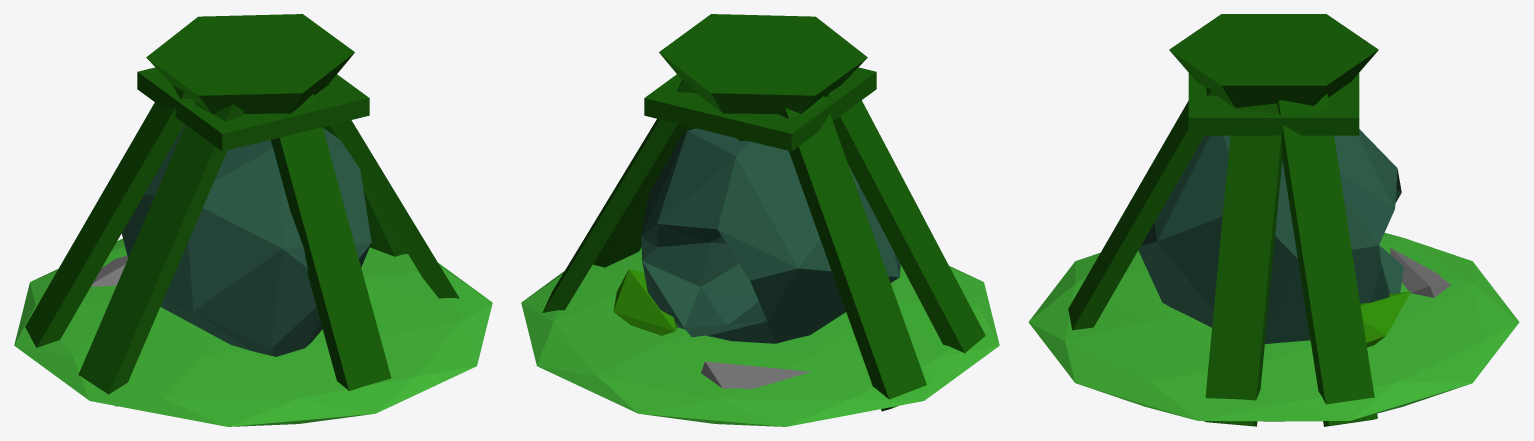
Rendered from 温帯の巣.fbx.
The picture shows the model from 3 angles, left to right: view 1: azimuth 30°, elevation 25°; view 2: azimuth 150°, elevation 25°; view 3: azimuth 270°, elevation 25°; orthographic projection.
Parts seen in each view (by area): view 1: ICO球.001, ICO球.002, 立方体.006, 立方体.002, 立方体.003, 立方体.004, 立方体.007, 立方体.001, 立方体.005, ICO球.005; view 2: ICO球.001, ICO球.002, 立方体.006, 立方体.004, 立方体.003, 立方体.007, 立方体.005, 立方体.001, ICO球.003, ICO球.005; view 3: ICO球.001, ICO球.002, 立方体.005, 立方体.001, 立方体.006, 立方体.002, 立方体.007, ICO球.003, ICO球.005.
Boxes of the visible parts, x1=… form: ICO球.001: x1=14, y1=238, x2=492, y2=426; ICO球.002: x1=121, y1=124, x2=371, y2=356; 立方体.006: x1=146, y1=14, x2=354, y2=113; 立方体.002: x1=271, y1=94, x2=391, y2=391; 立方体.003: x1=78, y1=101, x2=243, y2=406; 立方体.004: x1=25, y1=85, x2=190, y2=347; 立方体.007: x1=137, y1=67, x2=369, y2=151; 立方体.001: x1=326, y1=83, x2=459, y2=298; 立方体.005: x1=323, y1=125, x2=407, y2=256; ICO球.005: x1=91, y1=256, x2=127, y2=286; ICO球.001: x1=521, y1=247, x2=999, y2=426; ICO球.002: x1=641, y1=128, x2=900, y2=343; 立方体.006: x1=659, y1=14, x2=867, y2=140; 立方体.004: x1=778, y1=96, x2=926, y2=411; 立方体.003: x1=826, y1=85, x2=985, y2=353; 立方体.007: x1=644, y1=67, x2=876, y2=151; 立方体.005: x1=542, y1=79, x2=696, y2=312; 立方体.001: x1=593, y1=124, x2=695, y2=267; ICO球.003: x1=613, y1=269, x2=677, y2=335; ICO球.005: x1=701, y1=361, x2=810, y2=389; ICO球.001: x1=1028, y1=233, x2=1519, y2=421; ICO球.002: x1=1138, y1=129, x2=1403, y2=344; 立方体.005: x1=1277, y1=93, x2=1377, y2=426; 立方体.001: x1=1203, y1=103, x2=1282, y2=426; 立方体.006: x1=1169, y1=14, x2=1378, y2=107; 立方体.002: x1=1068, y1=88, x2=1216, y2=330; 立方体.007: x1=1188, y1=73, x2=1359, y2=135; ICO球.003: x1=1360, y1=291, x2=1410, y2=347; ICO球.005: x1=1390, y1=248, x2=1450, y2=297.
Size of the model in its own units: 190 by 132 by 200.
